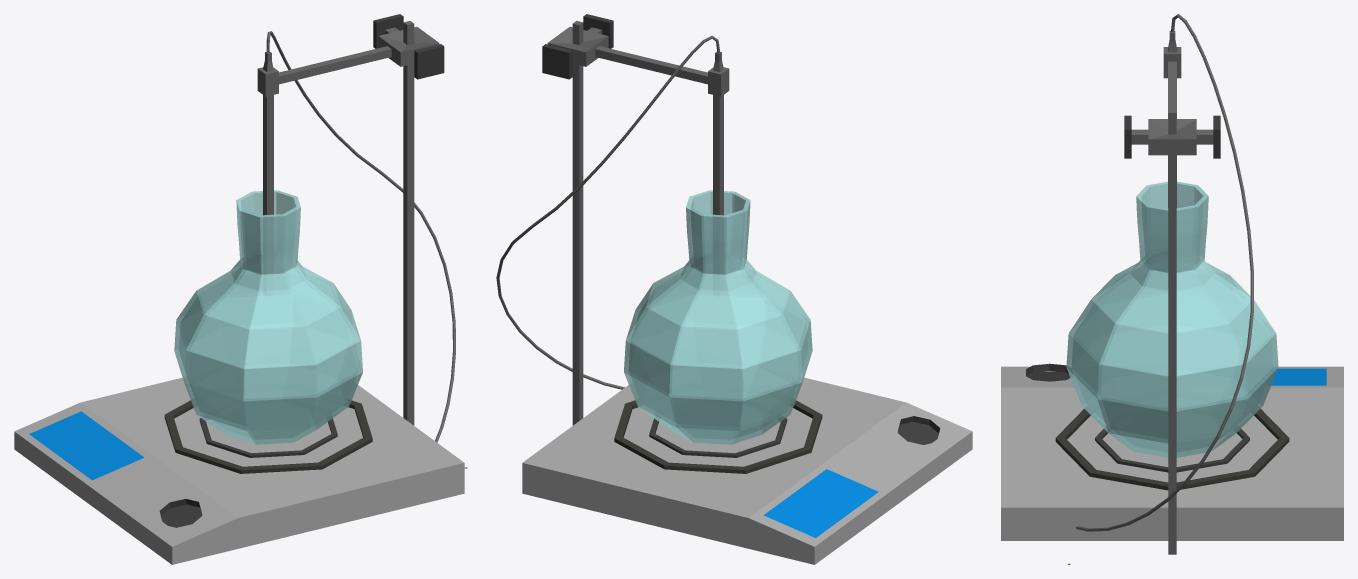
Rendered from WSDNIOK.fbx.
The picture shows the model from 3 angles, left to right: view 1: azimuth 30°, elevation 25°; view 2: azimuth 150°, elevation 25°; view 3: azimuth 270°, elevation 25°; orthographic projection. The views are drawn at different scales.
Visible parts, largest first — view 1: Cube.001, Circle, Cube, Circle.002, BézierCurve, Circle.003, Circle.001; view 2: Cube.001, Circle, Cube, Circle.002, BézierCurve, Circle.003, Circle.001; view 3: Cube.001, Circle, Cube, Circle.002, BézierCurve, Circle.003, Circle.001.
Boxes of the visible parts, x1,y1,x2,y2 form: Cube.001: (14, 377, 464, 564); Circle: (174, 190, 362, 444); Cube: (257, 14, 444, 425); Circle.002: (164, 400, 372, 473); BézierCurve: (266, 31, 467, 468); Circle.003: (199, 418, 337, 457); Circle.001: (159, 499, 202, 527); Cube.001: (522, 377, 972, 564); Circle: (624, 190, 812, 444); Cube: (542, 14, 729, 425); Circle.002: (614, 400, 822, 473); BézierCurve: (496, 35, 720, 389); Circle.003: (649, 418, 787, 457); Circle.001: (897, 416, 940, 444); Cube.001: (1001, 366, 1343, 540); Circle: (1066, 181, 1278, 457); Cube: (1124, 30, 1220, 554); Circle.002: (1055, 408, 1289, 490); BézierCurve: (1067, 14, 1253, 564); Circle.003: (1095, 428, 1249, 472); Circle.001: (1026, 363, 1070, 381).
Size of the model in its own units: 273 by 304 by 200.
